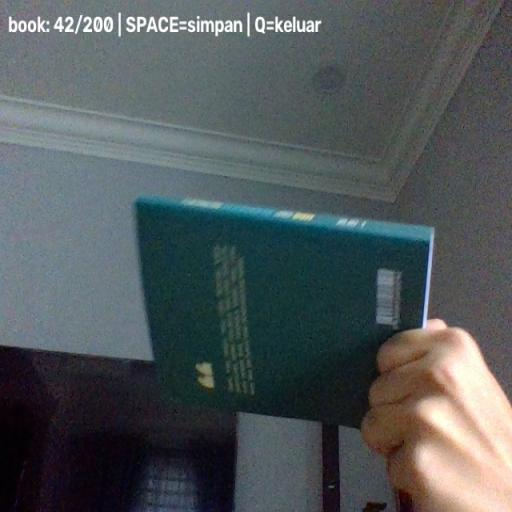Book: (133, 194, 435, 428)
